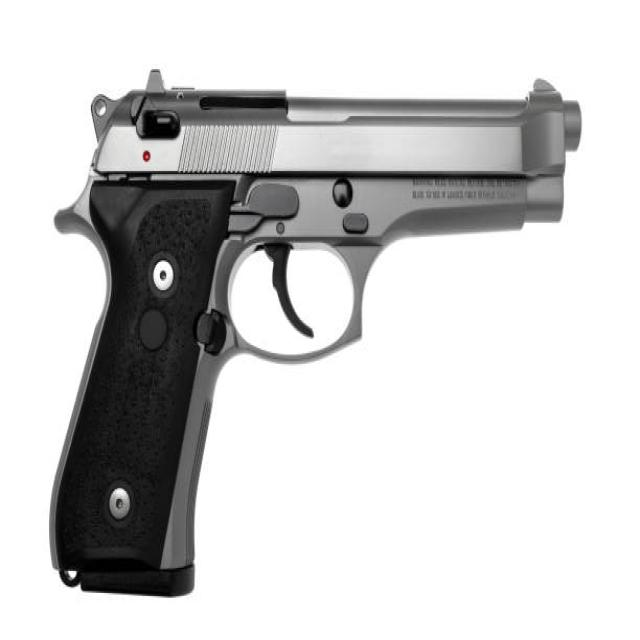pistol: (41, 57, 588, 610)
